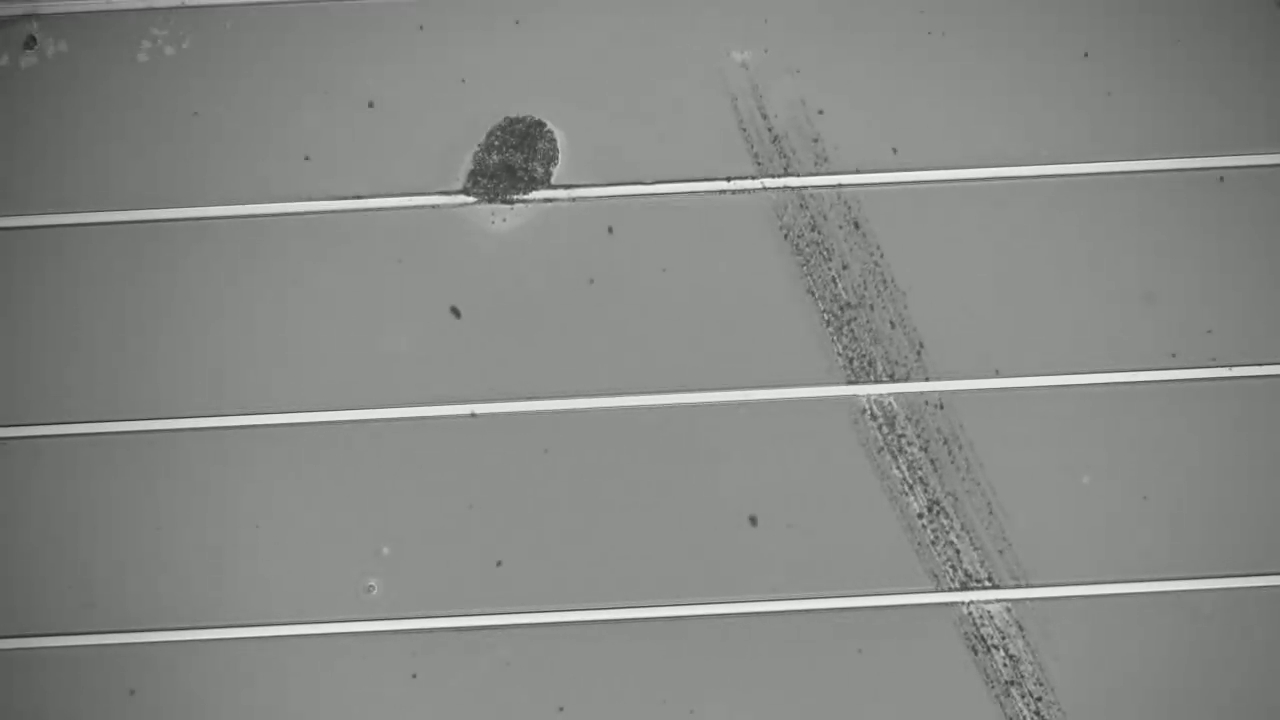scratch: (721, 64, 1079, 720)
stains_enbedded: (446, 93, 577, 233)
